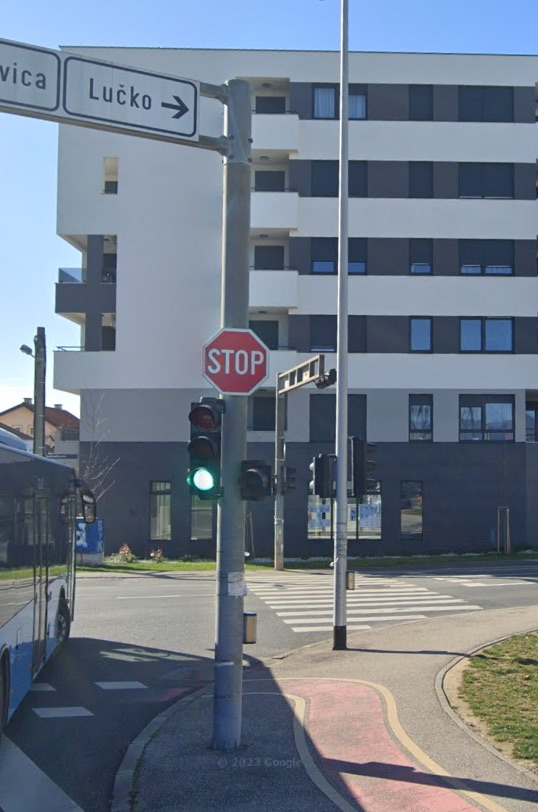Obavezno zaustavljanje: (203, 328, 270, 395)
